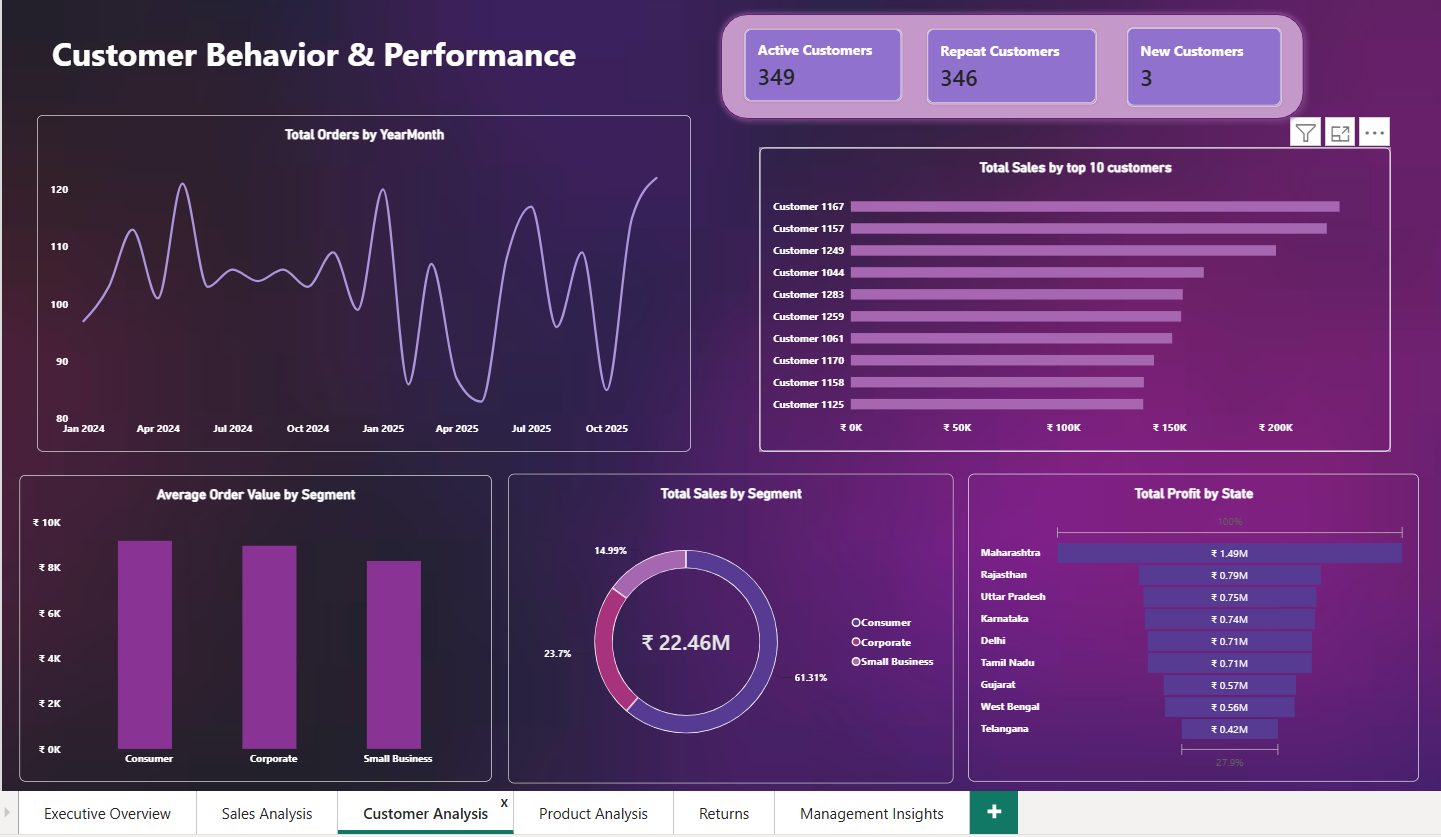

The dashboard page shown, as its layout file describes it:
{"tool":"powerbi","page":{"name":"Customer Analysis","canvas":[1920,1080],"ordinal":2},"visuals":[{"type":"shape","box":[950.1,16.3,794.4,157.4],"z":0,"group":"g1"},{"type":"donutChart","fields":{"Category":["Customers.Segment"],"Y":["Customers.Total Sales"]},"box":[675,638.8,593.6,412.6],"z":0},{"type":"cardVisual","fields":{"Data":["Customers.Active Customers"]},"box":[989.3,44.7,210.2,97.1],"z":1000,"group":"g2"},{"type":"clusteredColumnChart","fields":{"Category":["Customers.Segment"],"Y":["Customers.Average Order Value"]},"box":[23.5,640.6,629.8,409],"z":1000},{"type":"lineChart","fields":{"Category":["Date.YearMonth"],"Y":["Customers.Total Orders"]},"box":[47.1,159.3,872.3,448.8],"z":2000},{"type":"funnel","fields":{"Category":["Customers.State"],"Y":["Customers.Total Profit"]},"box":[1288.5,638.8,600.8,410.8],"z":3000},{"type":"cardVisual","fields":{"Data":["Customers.Repeat Customers"]},"box":[1233.3,44.7,226.2,100.5],"z":4000,"group":"g2"},{"type":"barChart","title":"Total Sales by top 10 customers","fields":{"Category":["Customers.CustomerName"],"Y":["Customers.Total Sales"]},"box":[1009.8,202.7,841.5,405.4],"z":4000},{"type":"cardVisual","fields":{"Data":["Customers.New Customers"]},"box":[1498.9,42.3,206.6,105.5],"z":5000,"group":"g2"},{"type":"textbox","box":[67,48.9,796.3,70.6],"z":5000},{"type":"group","id":"g1","title":"Group 2","box":[950.1,16.3,794.4,157.4],"z":6000},{"type":"group","id":"g2","title":"Group 1","box":[989.3,42.3,716.2,105.5],"z":7001,"group":"g1"}]}

Visuals, with their boxes on the page's 1920x1080 design canvas (x1, y1, x2, y2). These are canvas units, not pixel positions in the 1441x837 screenshot, which may show the page scaled, cropped or inside an application window:
shape: crop(950, 16, 1744, 174)
donutChart - Customers.Segment x Customers.Total Sales: crop(675, 639, 1269, 1051)
cardVisual - Customers.Active Customers: crop(989, 45, 1200, 142)
clusteredColumnChart - Customers.Segment x Customers.Average Order Value: crop(24, 641, 653, 1050)
lineChart - Date.YearMonth x Customers.Total Orders: crop(47, 159, 919, 608)
funnel - Customers.State x Customers.Total Profit: crop(1288, 639, 1889, 1050)
cardVisual - Customers.Repeat Customers: crop(1233, 45, 1460, 145)
"Total Sales by top 10 customers" barChart: crop(1010, 203, 1851, 608)
cardVisual - Customers.New Customers: crop(1499, 42, 1706, 148)
textbox: crop(67, 49, 863, 120)
"Group 2" group: crop(950, 16, 1744, 174)
"Group 1" group: crop(989, 42, 1706, 148)
